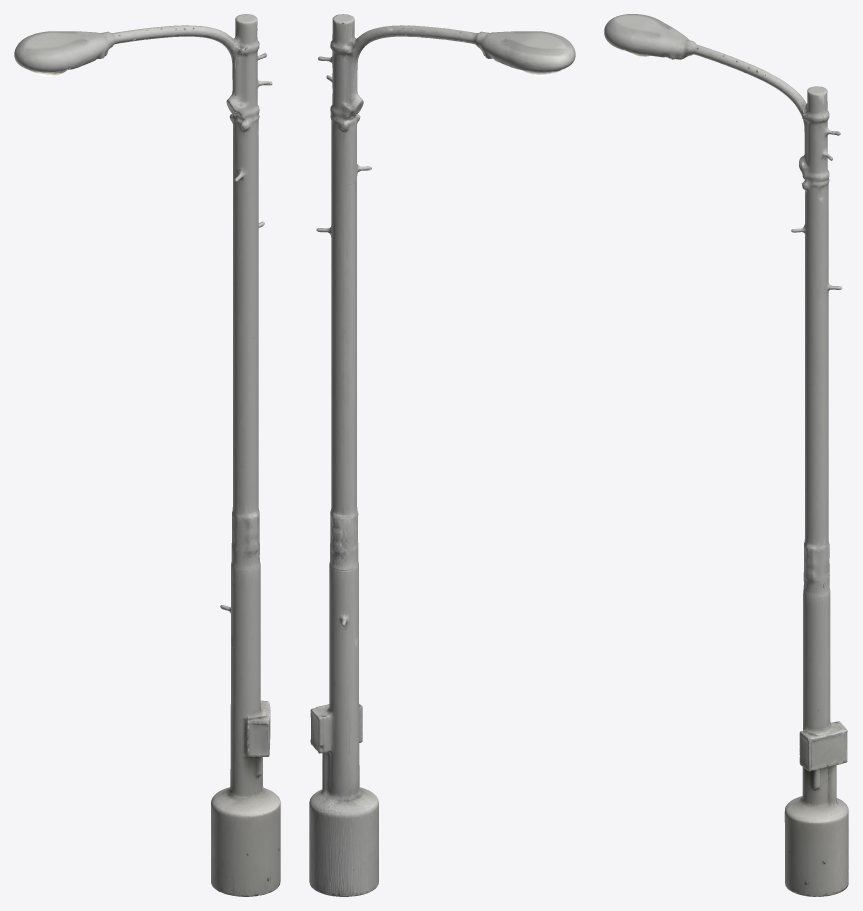
The model's file is gaitou.glb.
3 views of the same model, side by side, from view 1: azimuth 30°, elevation 25°; view 2: azimuth 150°, elevation 25°; view 3: azimuth 330°, elevation 25° (orthographic). The views are drawn at different scales.
Parts seen in each view (by area): view 1: Mesh_0; view 2: Mesh_0; view 3: Mesh_0.
Boxes of the visible parts, x1=… form: Mesh_0: x1=14, y1=14, x2=280, y2=896; Mesh_0: x1=309, y1=14, x2=575, y2=896; Mesh_0: x1=604, y1=14, x2=848, y2=896.
Bounding box in the file's own units: 0.5801 × 1.91 × 0.1357.
Materials: 1 (1 with a texture image).
